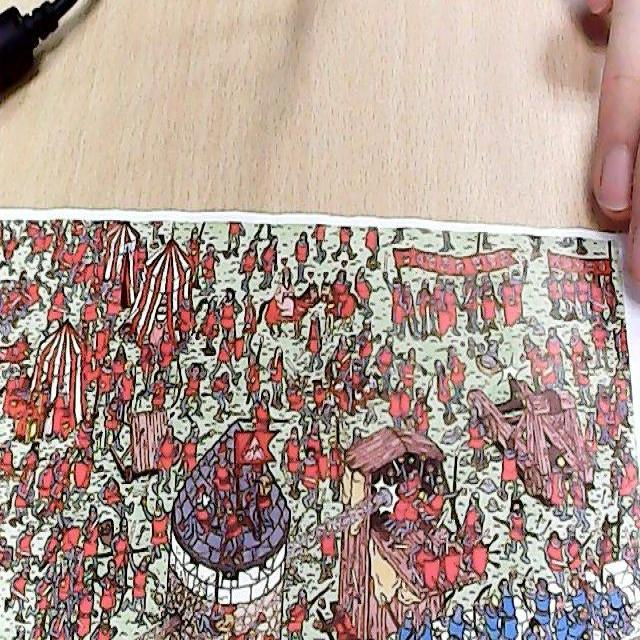waldo: (402, 409, 418, 434)
